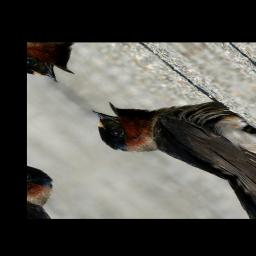Swallow: (72, 65, 256, 204)
